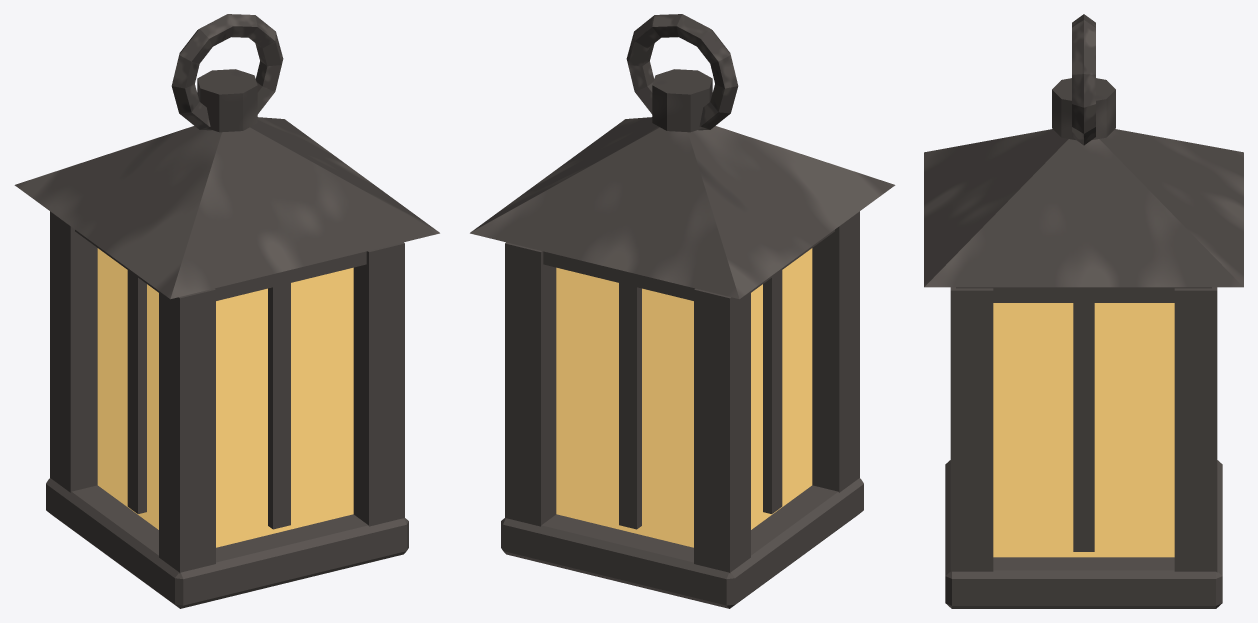
Rendered from portable_lantern.glb.
3 views of the same model, side by side, from view 1: azimuth 30°, elevation 25°; view 2: azimuth 150°, elevation 25°; view 3: azimuth 270°, elevation 25° (orthographic). The views are drawn at different scales.
Parts seen in each view (by area): view 1: portable_lantern_frame, portable_lantern_cap, portable_lantern_glass_insert, portable_lantern_handle_ring; view 2: portable_lantern_frame, portable_lantern_cap, portable_lantern_glass_insert, portable_lantern_handle_ring; view 3: portable_lantern_cap, portable_lantern_frame, portable_lantern_glass_insert, portable_lantern_handle_ring.
Part boxes in pixels (<box>): portable_lantern_frame: <box>46,211,408,608</box>; portable_lantern_cap: <box>14,69,439,299</box>; portable_lantern_glass_insert: <box>97,248,353,547</box>; portable_lantern_handle_ring: <box>171,14,283,130</box>; portable_lantern_frame: <box>501,211,863,608</box>; portable_lantern_cap: <box>470,69,895,299</box>; portable_lantern_glass_insert: <box>556,248,812,547</box>; portable_lantern_handle_ring: <box>626,14,738,130</box>; portable_lantern_cap: <box>924,78,1243,287</box>; portable_lantern_frame: <box>945,287,1222,608</box>; portable_lantern_glass_insert: <box>993,303,1174,557</box>; portable_lantern_handle_ring: <box>1072,14,1095,145</box>.
Size of what is drawn, in the model's own units: 0.3 by 0.552 by 0.3.
2 materials, 2 textured.
